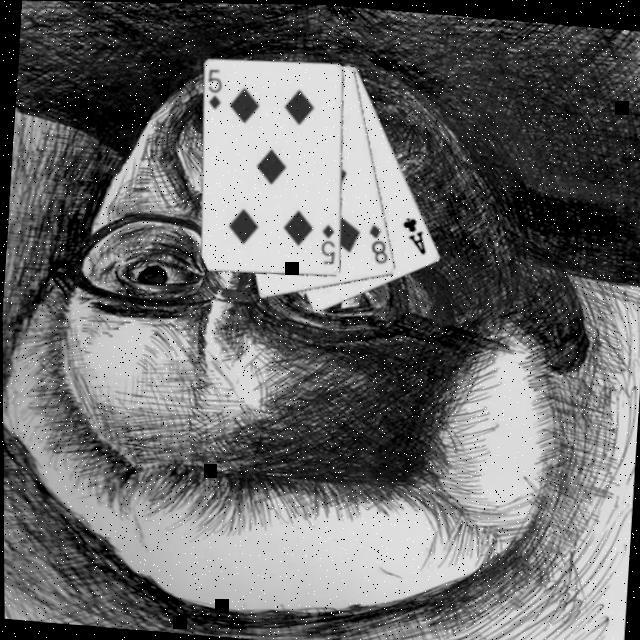5D: (318, 221, 341, 268), (204, 67, 227, 114)
8D: (365, 221, 394, 268)
AC: (398, 214, 432, 258)
